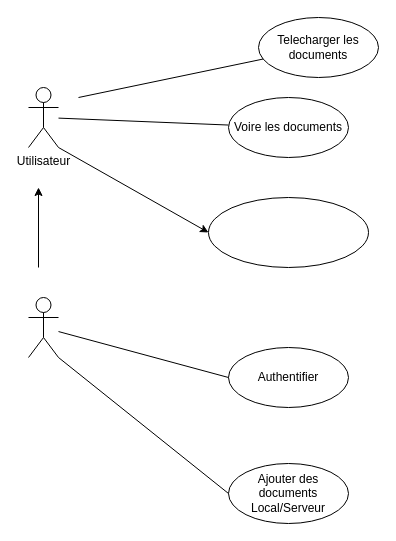
The diagram is 396 pixels wide and 541 high, and some of its shapes have lost their labels. Each missing label, with the centre of its shape:
Consulter les information sur les document auquel on a access: [288,232]
Personel: [43,327]
